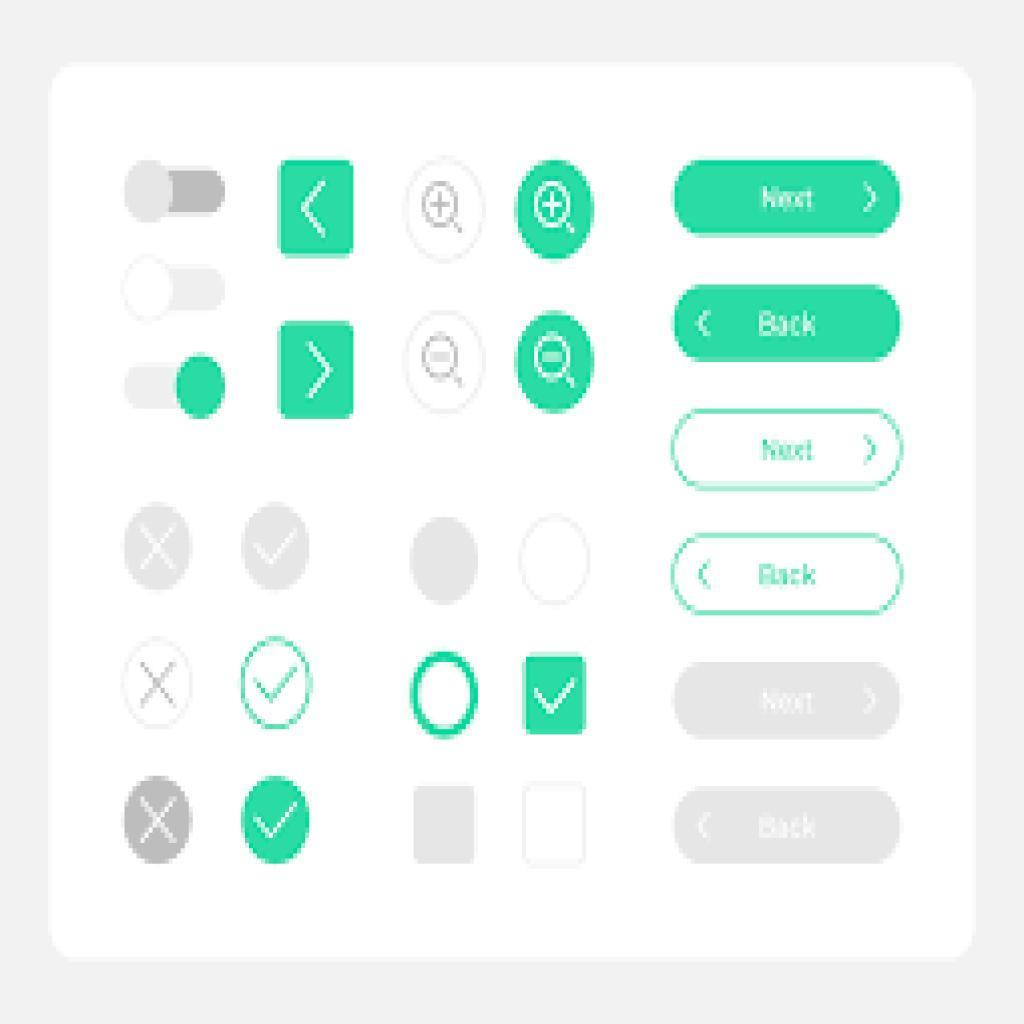button: (672, 407, 907, 494), (673, 533, 904, 616), (673, 285, 902, 366), (673, 158, 901, 239), (673, 787, 903, 866), (675, 664, 903, 740)
checkbox: (231, 769, 320, 875), (234, 635, 315, 736), (239, 500, 310, 598), (119, 501, 197, 589), (120, 773, 195, 864), (125, 637, 194, 734), (522, 784, 585, 871), (523, 655, 586, 737), (416, 788, 475, 867)
icon: (418, 175, 478, 247), (415, 334, 471, 401), (291, 328, 338, 407), (528, 179, 584, 242), (529, 332, 582, 396), (292, 177, 336, 241)
radio: (514, 510, 595, 615), (408, 515, 486, 614), (409, 648, 486, 742)
switch: (106, 343, 246, 428), (116, 250, 234, 331), (119, 150, 234, 233)
